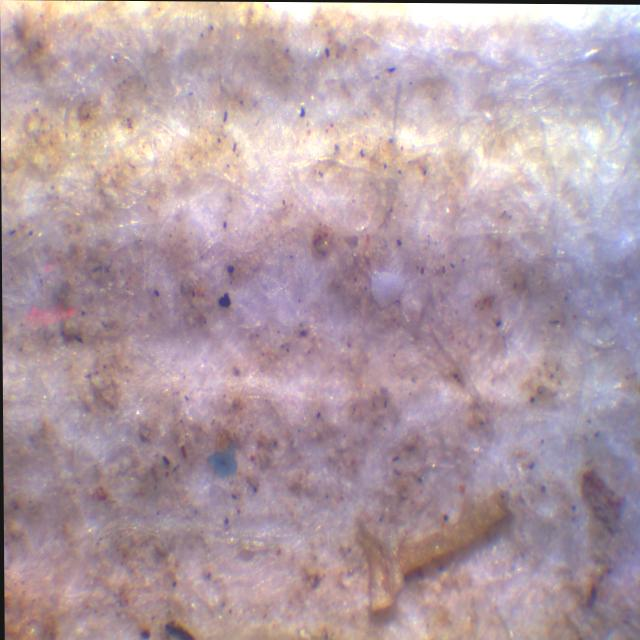microplastic: (362, 268, 408, 317), (206, 446, 242, 485)
